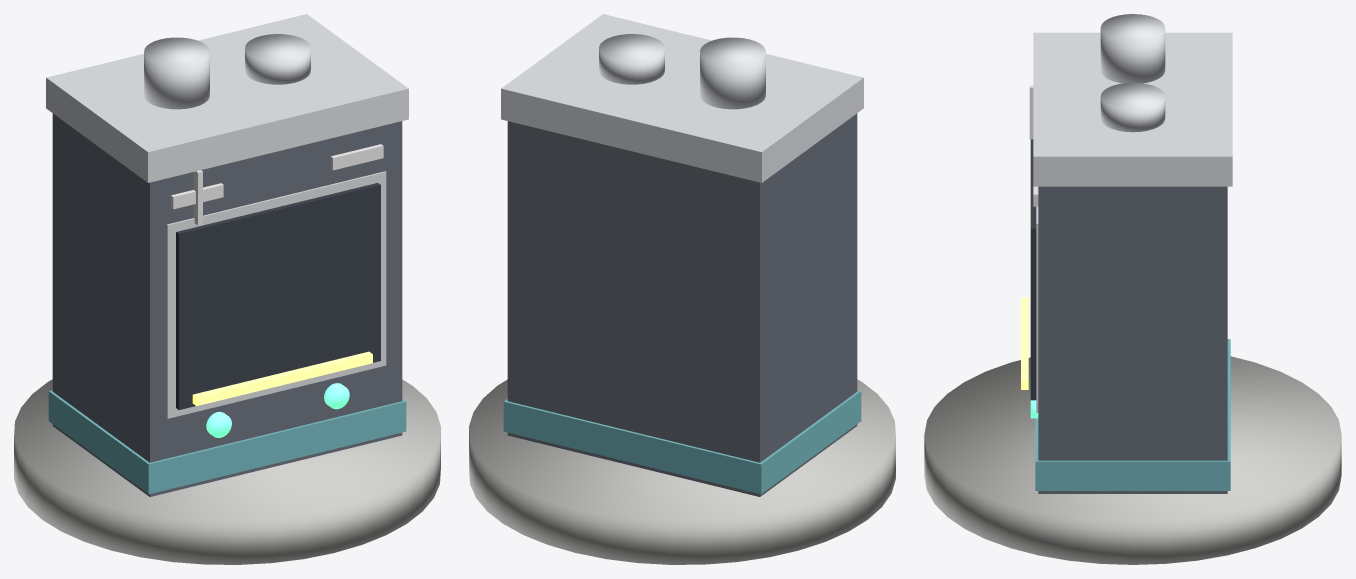
File: bateria.glb
3 renders of one model, left to right at view 1: azimuth 30°, elevation 25°; view 2: azimuth 150°, elevation 25°; view 3: azimuth 270°, elevation 25°, orthographic. The views are drawn at different scales.
Parts seen in each view (by area): view 1: Cuerpo, Base, Ventana, Tapa, Banda, MarcoVentana, BorneMas, BorneMenos, Nivel, SimboloMas, SimboloMenos, Led2 (+1 smaller); view 2: Cuerpo, Base, Tapa, Banda, BorneMas, BorneMenos; view 3: Cuerpo, Base, Tapa, Banda, BorneMas, BorneMenos, Ventana, Nivel, MarcoVentana.
Part boxes in pixels (x1,y1,x2,y2): Cuerpo: [52, 113, 402, 496]; Base: [14, 379, 440, 564]; Ventana: [176, 183, 380, 409]; Tapa: [46, 14, 408, 182]; Banda: [48, 390, 406, 494]; MarcoVentana: [166, 171, 386, 418]; BorneMas: [144, 37, 209, 109]; BorneMenos: [245, 34, 310, 84]; Nivel: [192, 351, 372, 406]; SimboloMas: [171, 170, 223, 225]; SimboloMenos: [330, 144, 383, 170]; Led2: [324, 383, 349, 409]; Cuerpo: [507, 113, 857, 496]; Base: [469, 379, 895, 564]; Tapa: [501, 14, 863, 182]; Banda: [503, 390, 861, 494]; BorneMas: [700, 37, 765, 109]; BorneMenos: [599, 34, 664, 84]; Cuerpo: [1038, 186, 1227, 493]; Base: [924, 356, 1341, 564]; Tapa: [1033, 32, 1232, 186]; Banda: [1035, 339, 1230, 490]; BorneMas: [1100, 14, 1165, 83]; BorneMenos: [1100, 82, 1165, 132]; Ventana: [1030, 139, 1036, 400]; Nivel: [1021, 297, 1028, 389]; MarcoVentana: [1036, 206, 1038, 412].
Size of the model in its own units: 4.4 by 4.95 by 4.4.
